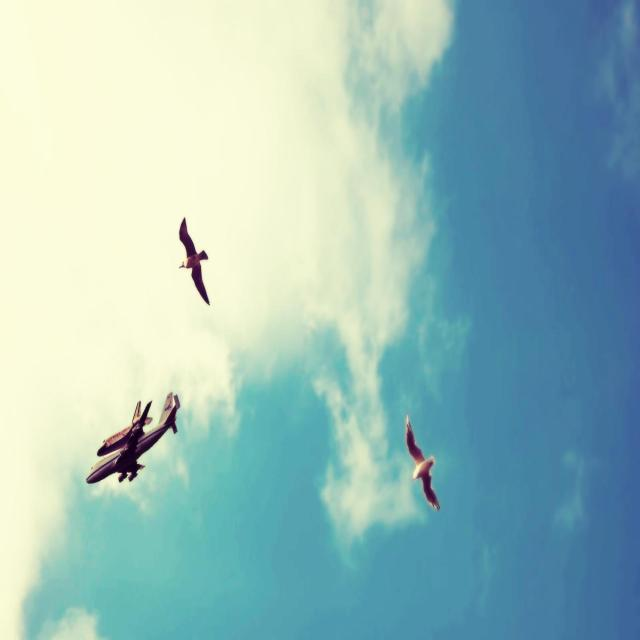airplane: (85, 391, 180, 484)
